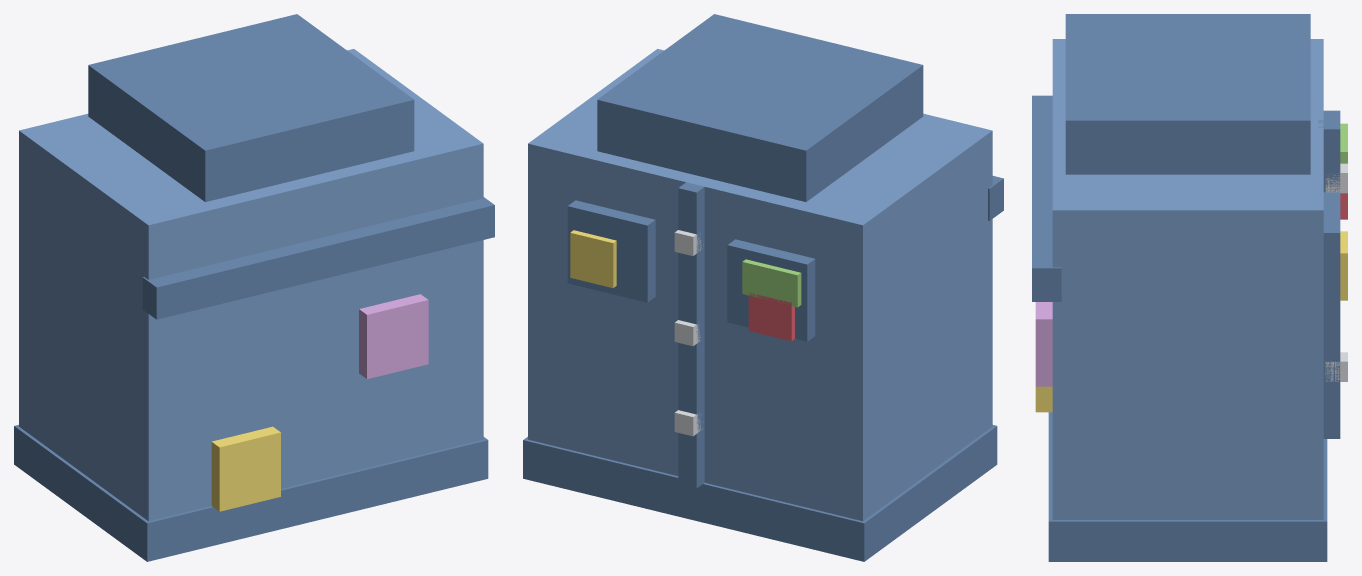
File: jeans_jaqueta_tronco.glb
3 renders of one model, left to right at view 1: azimuth 30°, elevation 25°; view 2: azimuth 150°, elevation 25°; view 3: azimuth 270°, elevation 25°, orthographic. The views are drawn at different scales.
Visible parts, largest first — view 1: jeans_jaqueta_tronco; view 2: jeans_jaqueta_tronco; view 3: jeans_jaqueta_tronco.
Part boxes in pixels (left/top/right/bottom): jeans_jaqueta_tronco: left=14, top=14, right=494, bottom=561; jeans_jaqueta_tronco: left=523, top=14, right=1003, bottom=561; jeans_jaqueta_tronco: left=1032, top=14, right=1347, bottom=561.
Size of the model in its own units: 0.555 by 0.605 by 0.425.
